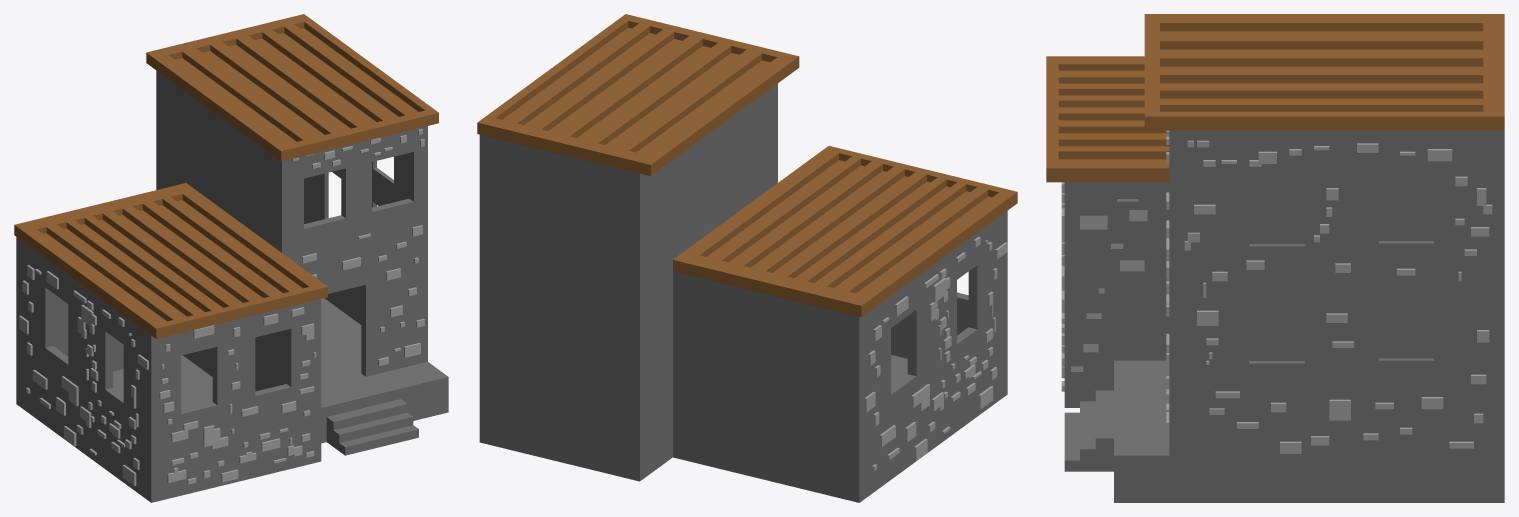
The model's file is grup8-kilise_a.fbx.
The picture shows the model from 3 angles, left to right: view 1: azimuth 30°, elevation 25°; view 2: azimuth 150°, elevation 25°; view 3: azimuth 270°, elevation 25°; orthographic projection. The views are drawn at different scales.
Parts seen in each view (by area): view 1: Untitled.012; view 2: Untitled.012; view 3: Untitled.012.
Boxes of the visible parts, x1,y1,x2,y2 form: Untitled.012: (14,14,448,502); Untitled.012: (477,14,1017,502); Untitled.012: (1046,14,1504,502).
Size of the model in its own units: 1600 by 1390 by 1490.
1 material, 1 textured.
